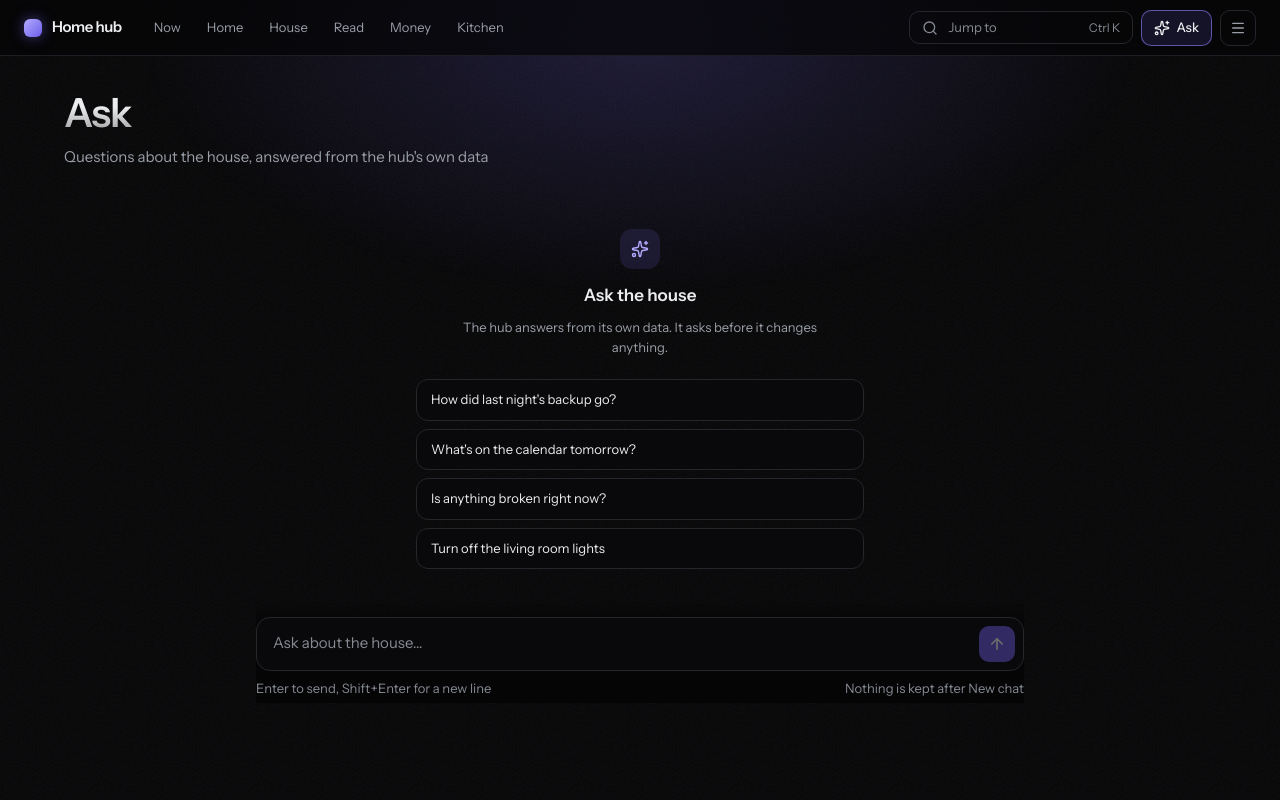
Test: AskPage › says why a change or a question failed, and starts over with New chat
Expected: the heading "Ask the house" is shown, [584, 282, 696, 308]
Type "Dim the spots" into the text box named "Your question" at {"x": 621, "y": 644}, box [273, 626, 969, 662]
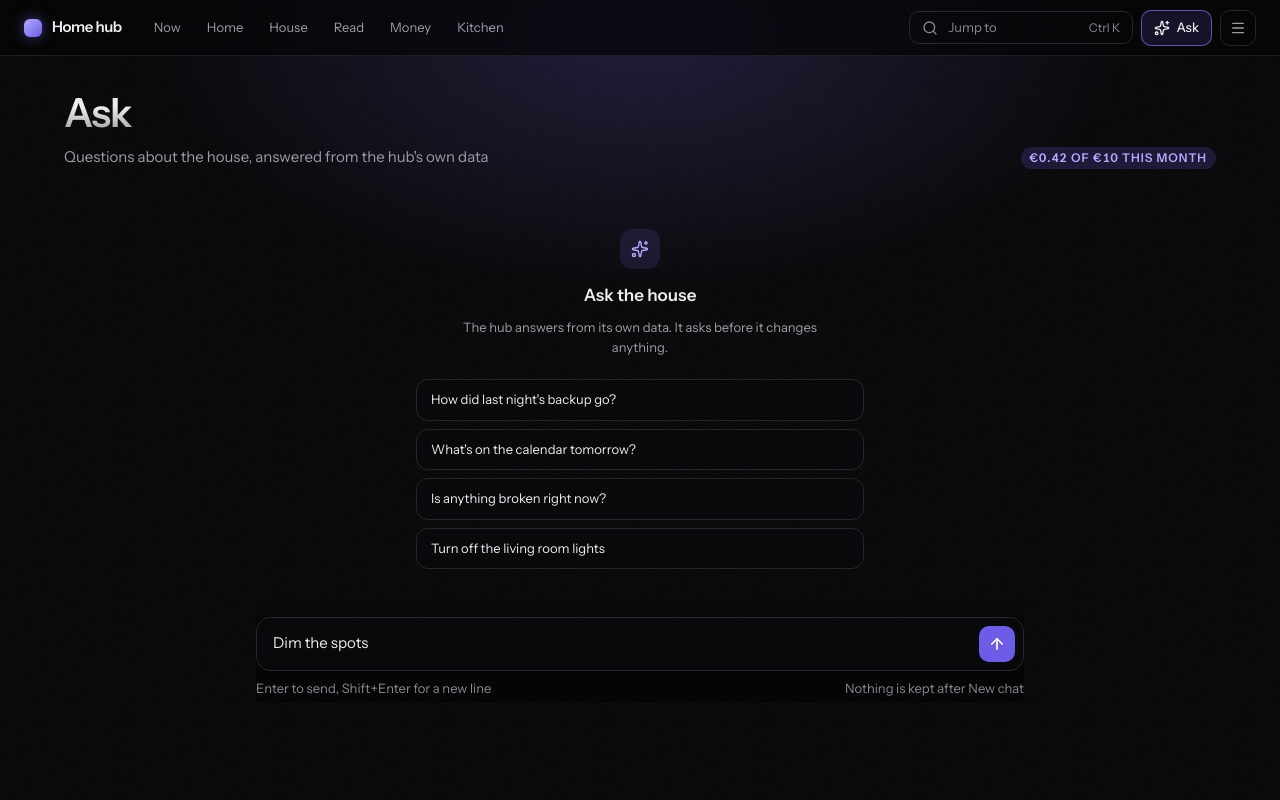
Press Enter in the text box named "Your question", box [273, 626, 969, 662]
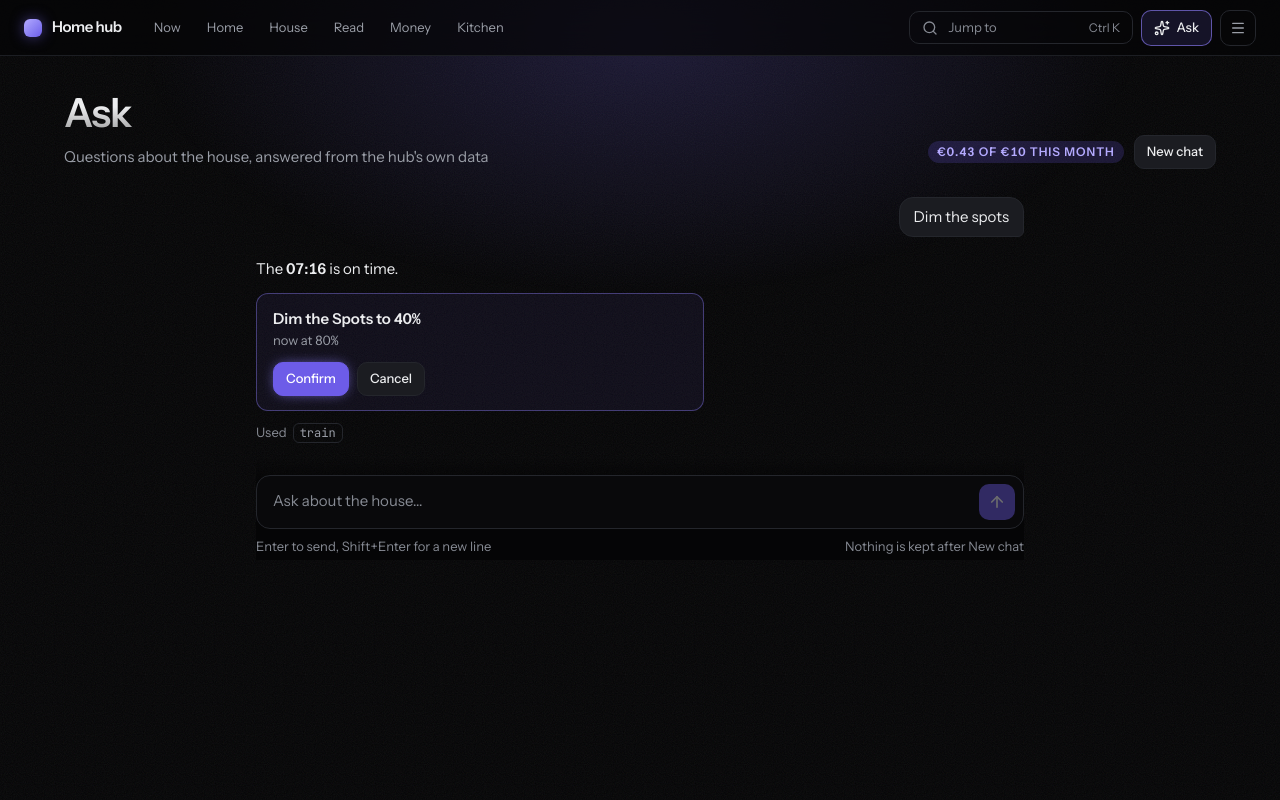
Click the button "Confirm" at {"x": 311, "y": 379}, box [273, 362, 349, 396]
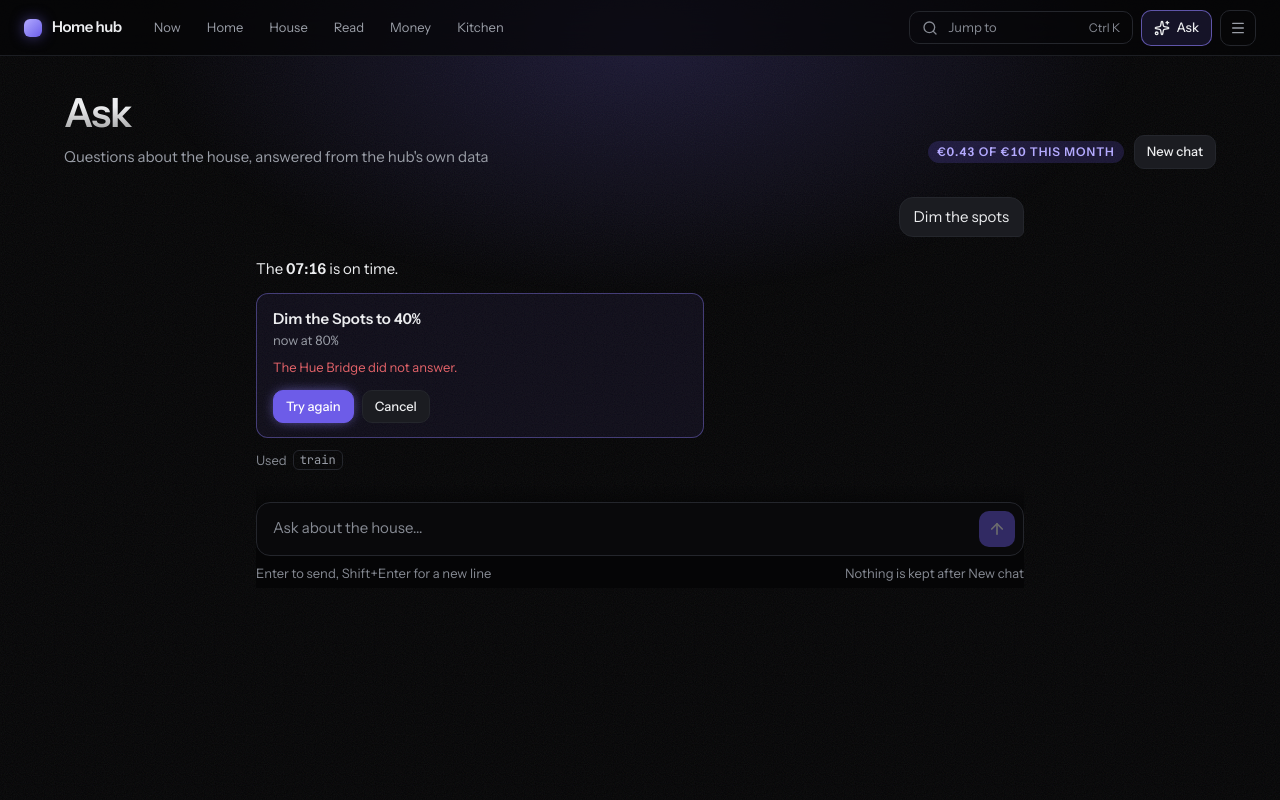
Now the button "Try again" is enabled, box [273, 390, 354, 423]
Now the message reads "The Hue Bridge did not answer.", box [273, 359, 457, 375]
Click the button "Cancel" at {"x": 396, "y": 407}, box [362, 390, 430, 423]
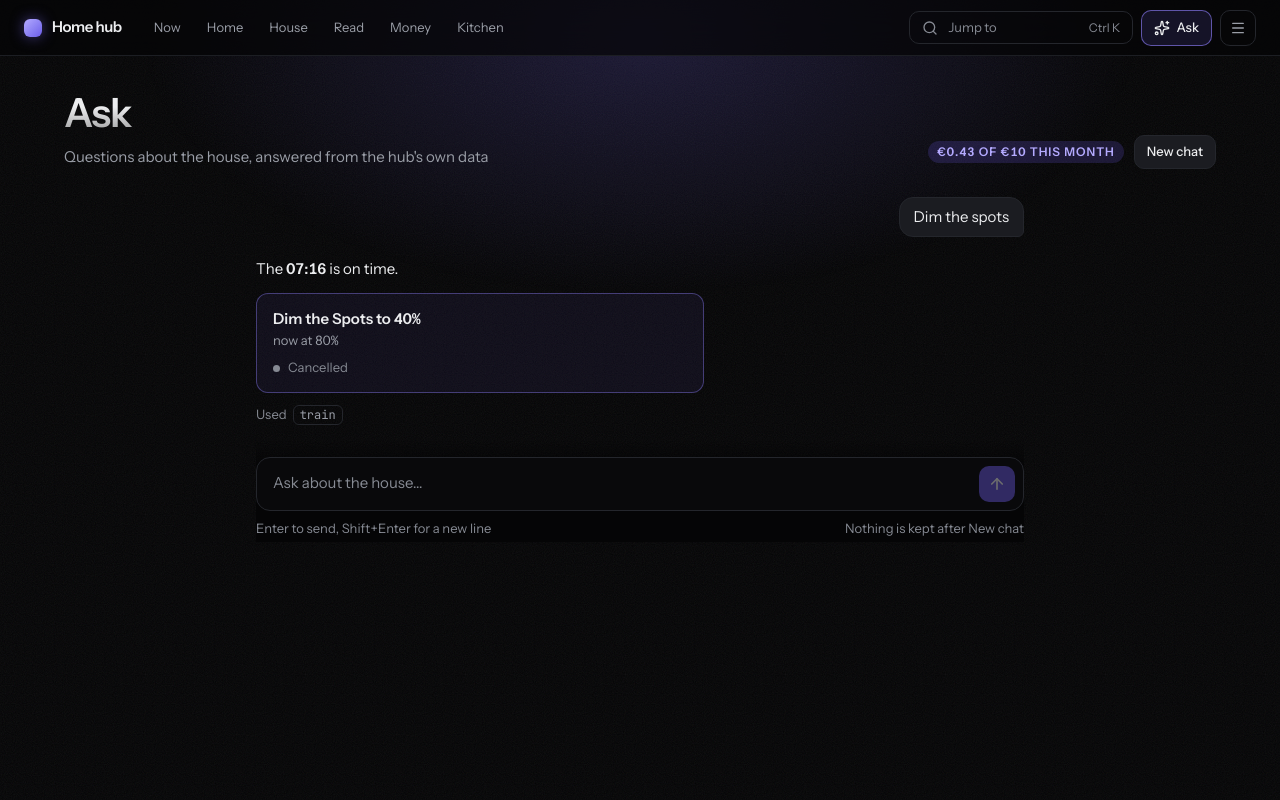
Now the text "Cancelled" is shown, box [273, 359, 348, 375]
Click the button "New chat" at {"x": 1175, "y": 152}, box [1134, 135, 1216, 168]
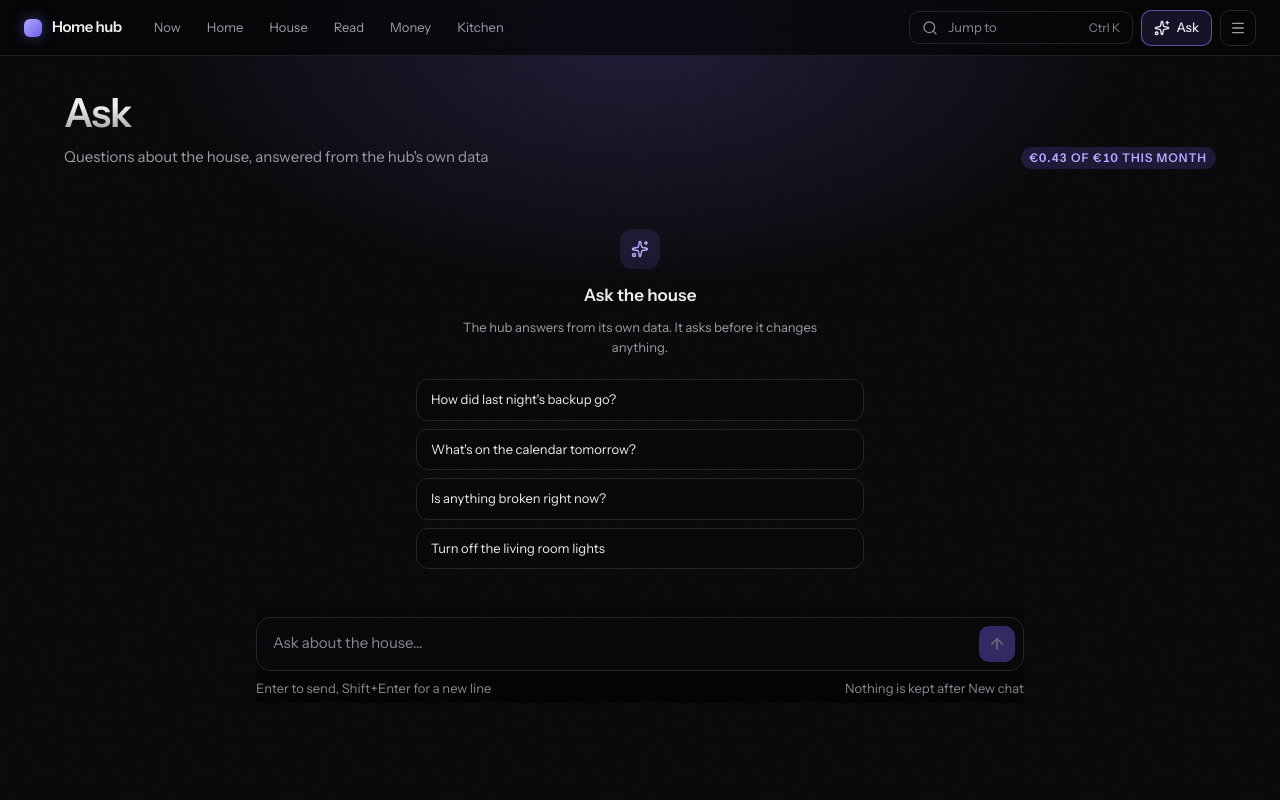
Now the heading "Ask the house" is shown, box [584, 282, 696, 308]
